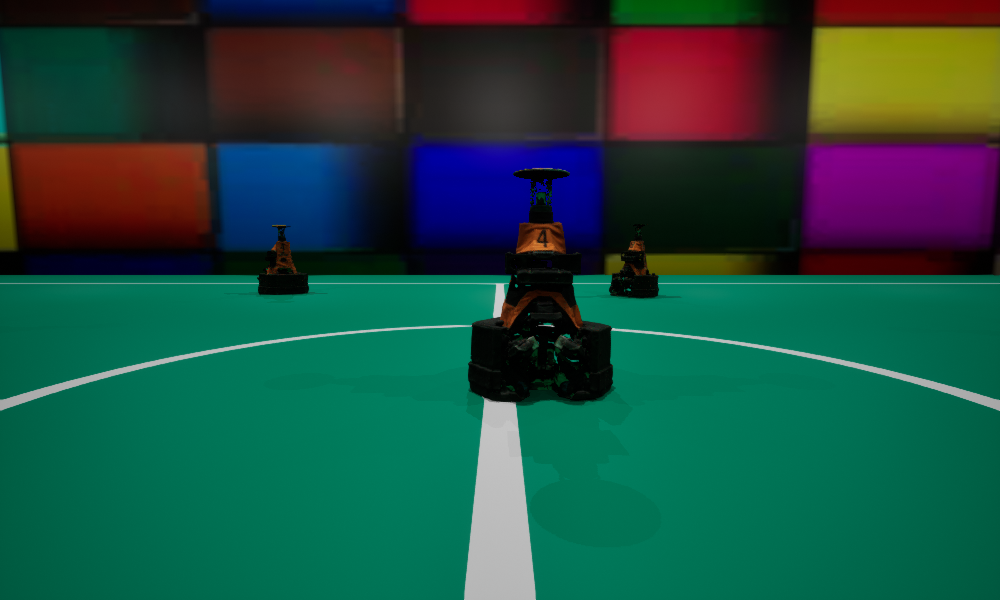o: (468, 168, 612, 401), (609, 224, 658, 297), (257, 225, 308, 294)
